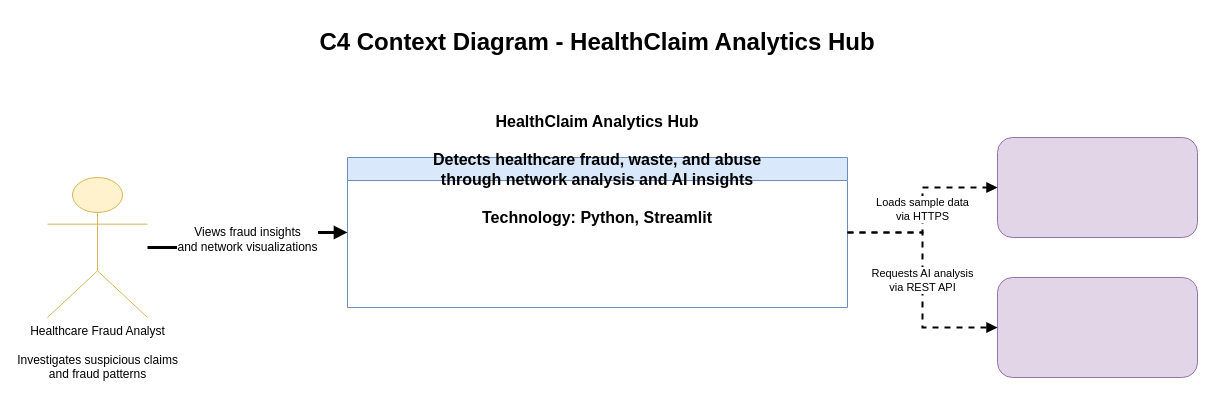
The diagram is 1215 pixels wide and 399 high, and some of its shapes have lost their labels. The shapes that lost their labels are listed below. From the top down, each one's centre as x and y in pixels, then its label:
At point 1097,187: "GitHub Repository Sample claims data source Raw CSV files".
At point 1097,327: "OpenAI API GPT-4 / GPT-3.5 AI Analysis Service".
